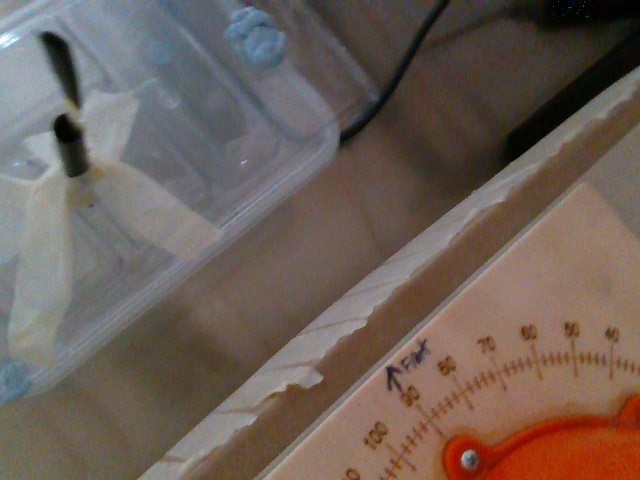test_strip: (35, 30, 81, 127)
